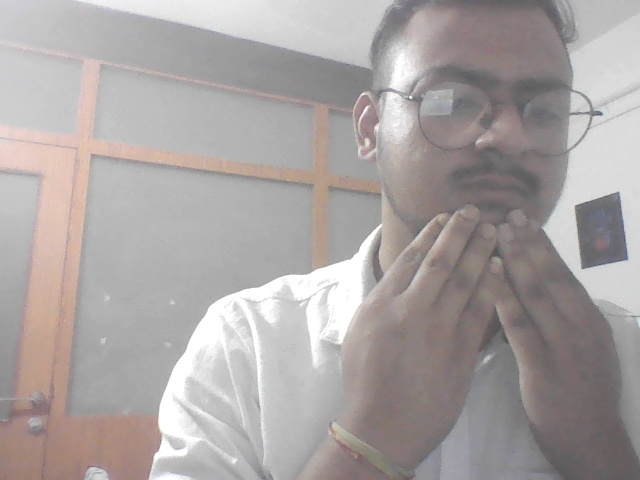ThankYou: (328, 192, 632, 457)
